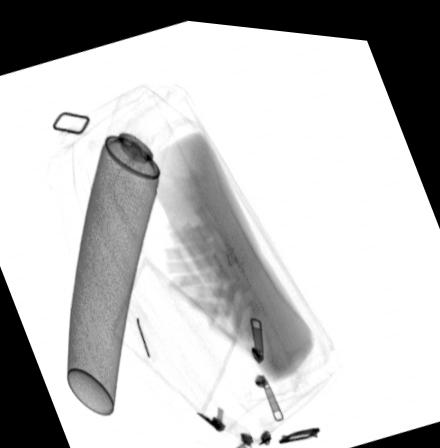Sprayer: (64, 88, 172, 416)
